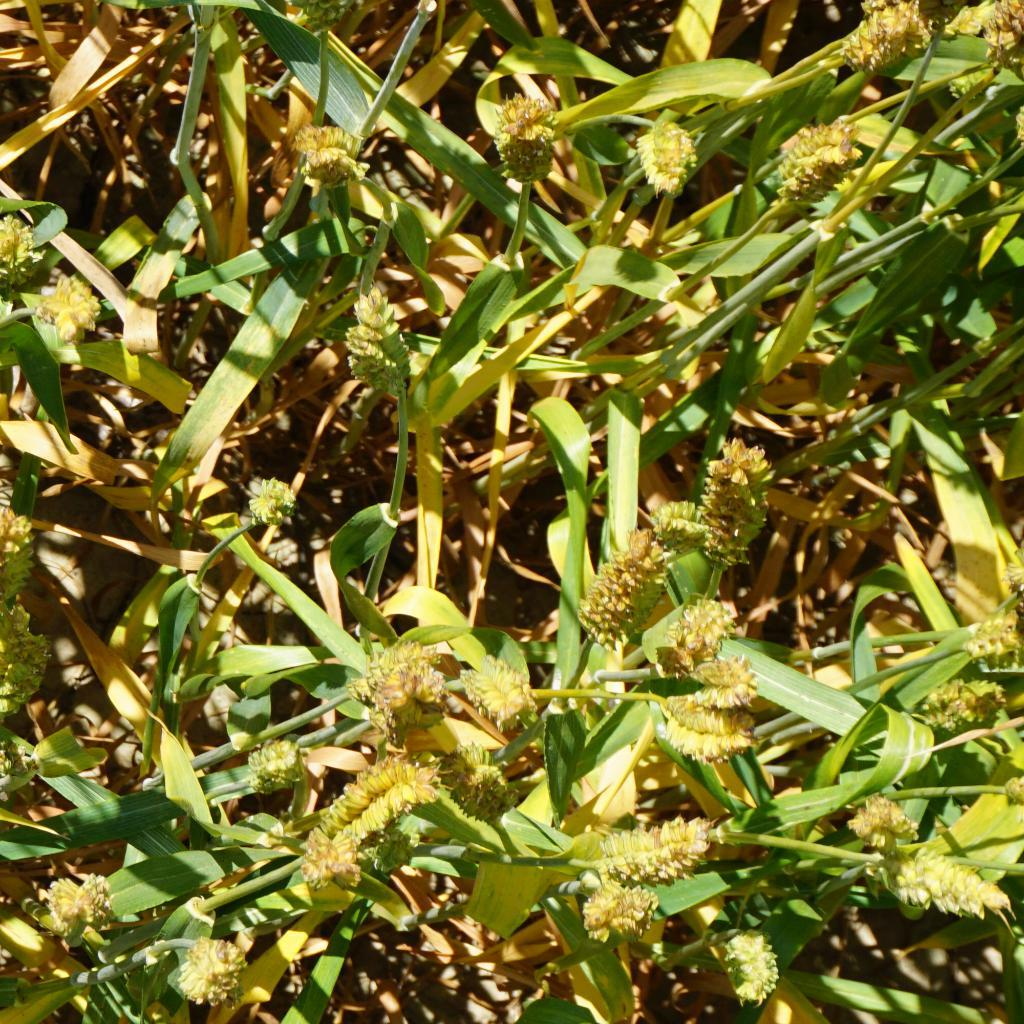0-0: (696, 433, 770, 570), (577, 527, 663, 640), (599, 809, 716, 892), (883, 844, 1018, 915), (340, 288, 418, 402), (771, 118, 860, 210), (664, 681, 759, 766), (485, 77, 560, 180), (323, 756, 434, 821), (633, 116, 708, 211), (830, 1, 920, 79), (663, 594, 750, 671), (371, 640, 444, 729), (565, 876, 663, 940), (675, 650, 764, 713), (840, 778, 911, 852), (914, 671, 1000, 729), (295, 116, 374, 179), (717, 925, 784, 998), (172, 940, 244, 1007), (443, 748, 509, 820), (464, 650, 529, 723), (37, 267, 101, 340), (45, 870, 125, 925), (0, 610, 45, 707), (239, 466, 303, 525), (0, 208, 47, 288), (248, 732, 309, 790), (969, 616, 1024, 674), (303, 824, 364, 876), (648, 496, 705, 546), (365, 820, 415, 866), (978, 0, 1018, 56), (0, 514, 25, 600), (0, 732, 32, 777)
